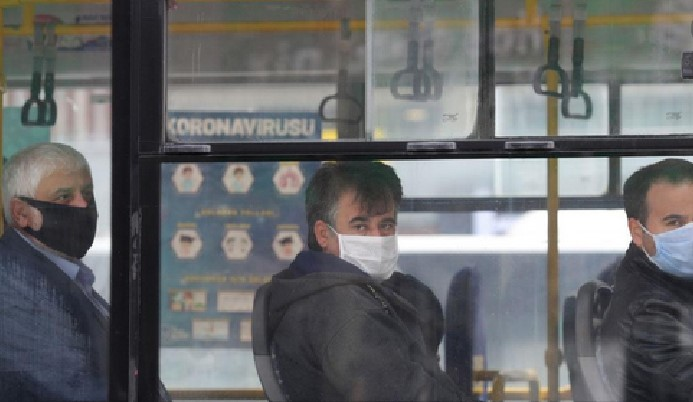face_with_mask: (312, 161, 402, 279), (10, 146, 99, 257), (628, 160, 692, 277)
